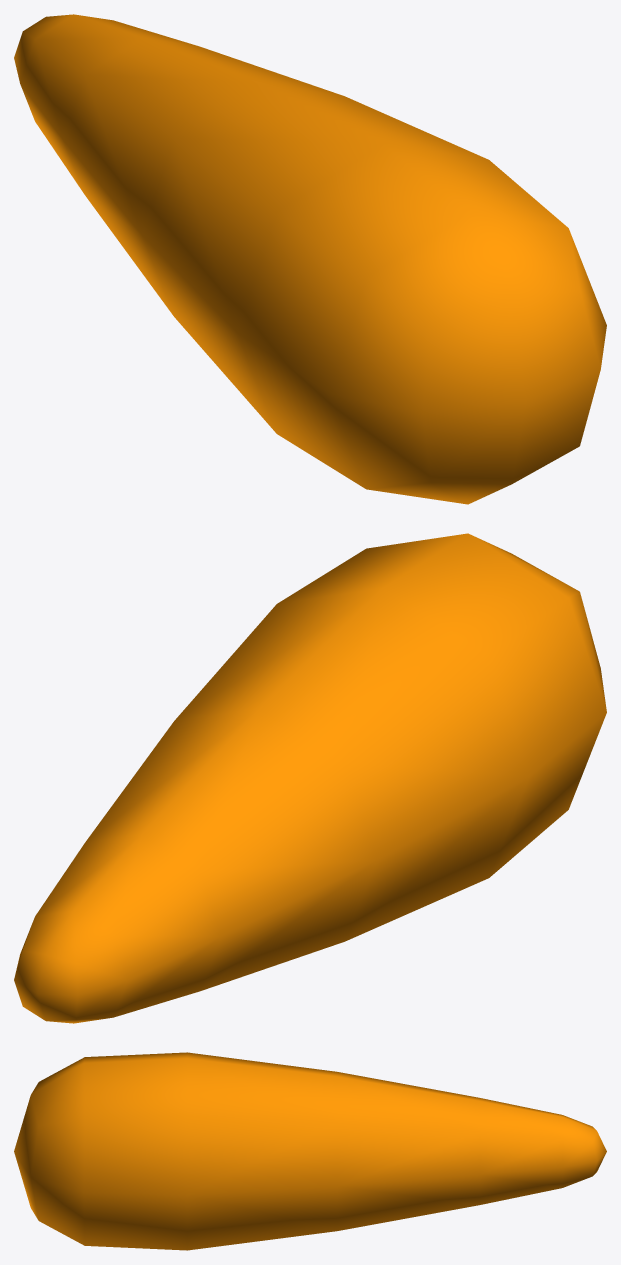
3 views of the same model, one above another, from view 1: azimuth 30°, elevation 25°; view 2: azimuth 150°, elevation 25°; view 3: azimuth 270°, elevation 25° (orthographic). The views are drawn at different scales.
Visible parts, largest first — view 1: 立方体; view 2: 立方体; view 3: 立方体.
Boxes of the visible parts, box(x1,y1,x2,y2) form: 立方体: box(14, 14, 606, 504); 立方体: box(14, 533, 606, 1023); 立方体: box(14, 1052, 606, 1250).
Size of the model in its own units: 0.6402 by 0.6402 by 1.85.
1 material, 1 textured.
